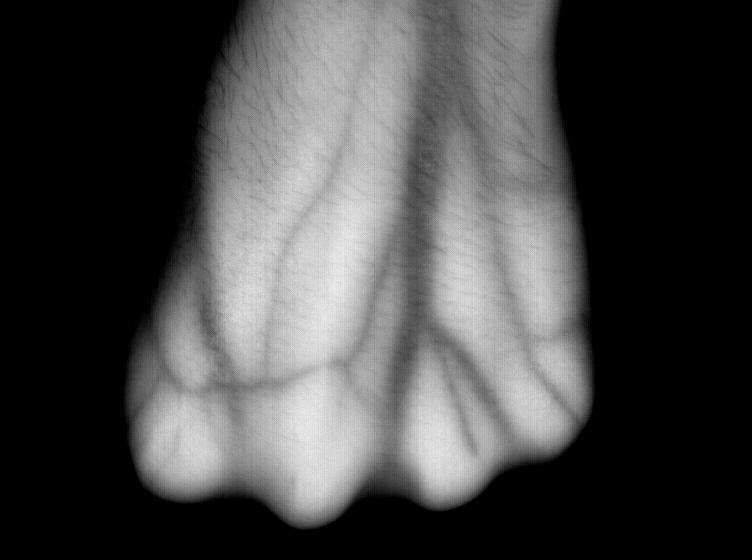Vein: (385, 23, 503, 419)
